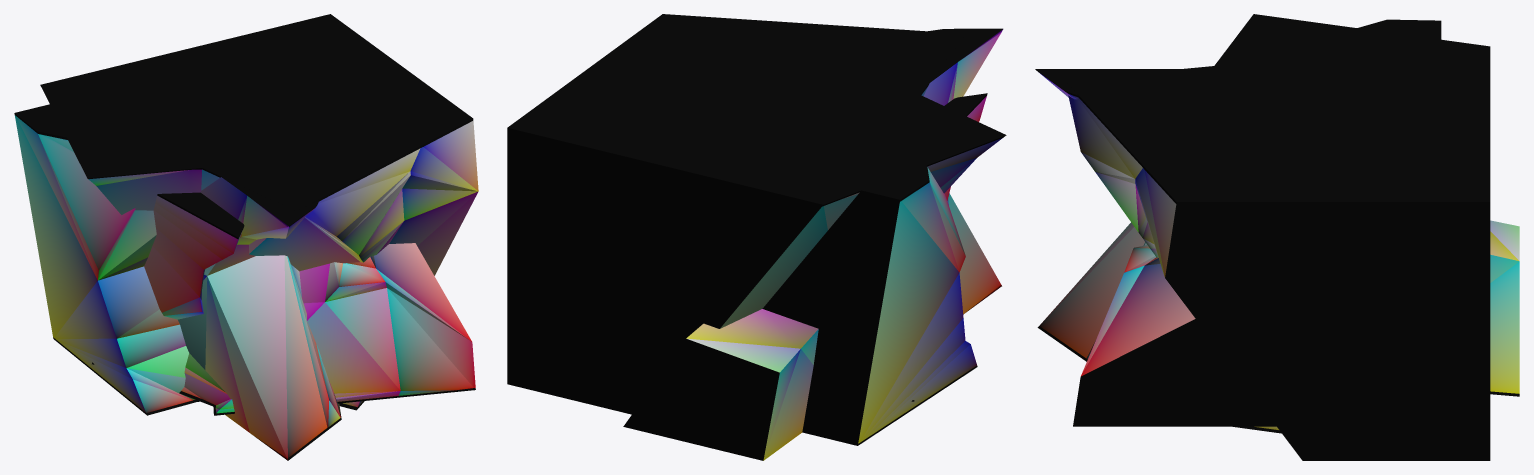
3 renders of one model, left to right at view 1: azimuth 30°, elevation 25°; view 2: azimuth 150°, elevation 25°; view 3: azimuth 270°, elevation 25°, orthographic. The views are drawn at different scales.
Visible parts, largest first — view 1: Cube; view 2: Cube; view 3: Cube.
Boxes of the visible parts, bbox=[...] form: Cube: bbox=[14, 14, 478, 460]; Cube: bbox=[507, 14, 1006, 460]; Cube: bbox=[1035, 14, 1519, 460].
Size of the model in its own units: 0.8404 by 0.5391 by 0.9147.
